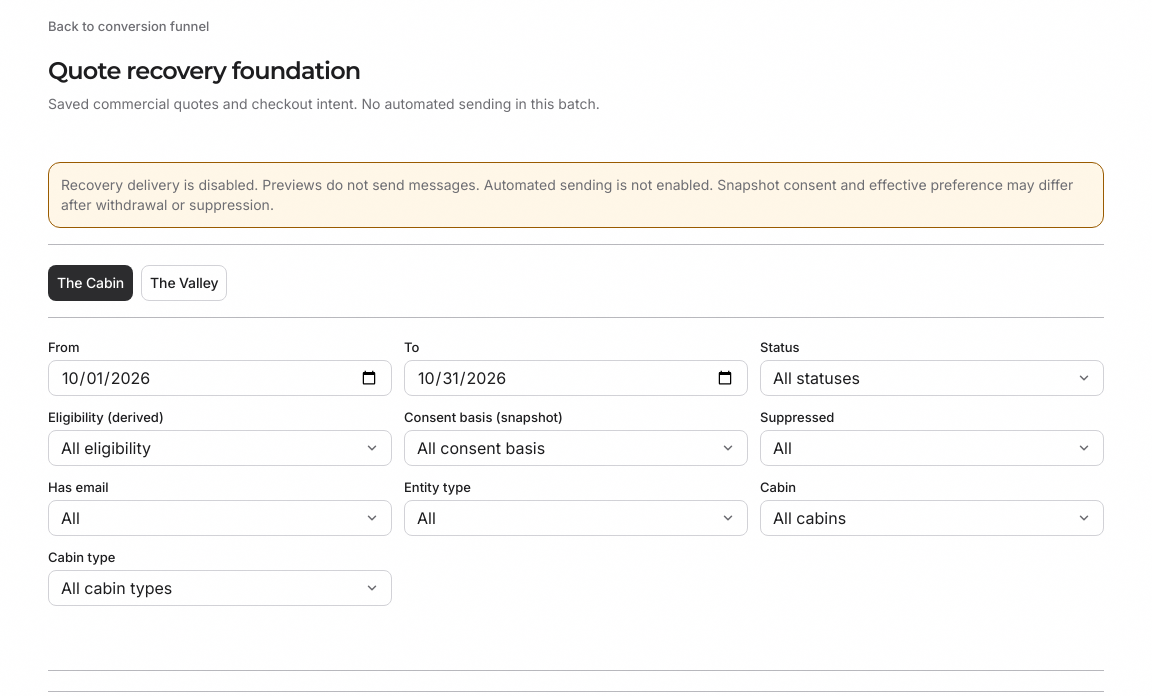
Test: OpsConversionRecovery migration › humanizes eligibility reason display without changing API/filter values
Step 1. Select "Booking reminder" in the dropdown labelled "Eligibility (derived)" → {"x": 220, "y": 448}, box [48, 430, 392, 466]
(page scrolled)
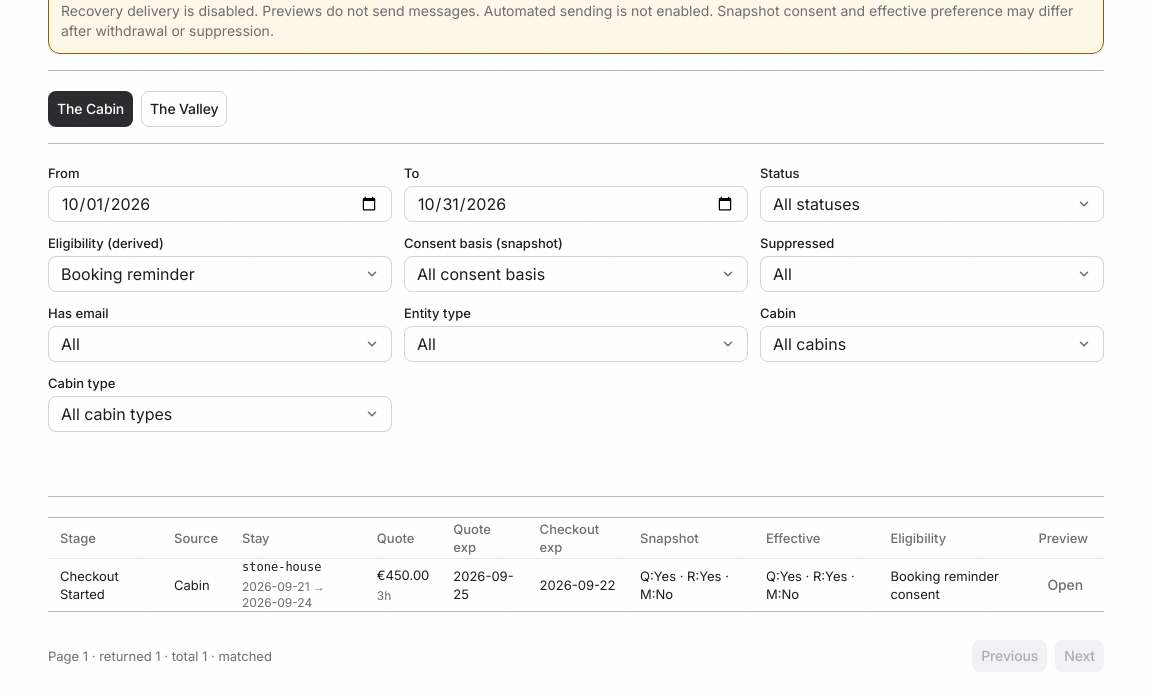
Step 2. Click the button "Open" → {"x": 1065, "y": 584}, box [1038, 568, 1092, 600]
(page scrolled)
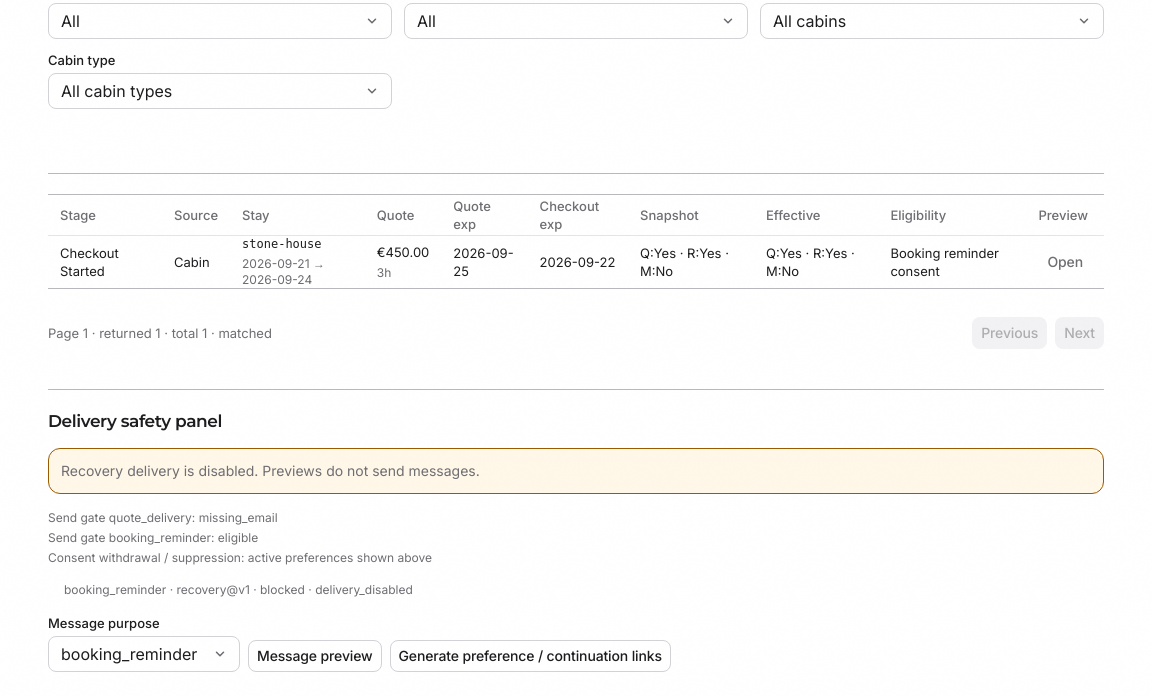
Check: the element with test id "recovery-detail" is shown, box [48, 388, 1104, 695]
Step 3. Click the button "Message preview" → {"x": 315, "y": 656}, box [248, 640, 382, 672]
(page scrolled)
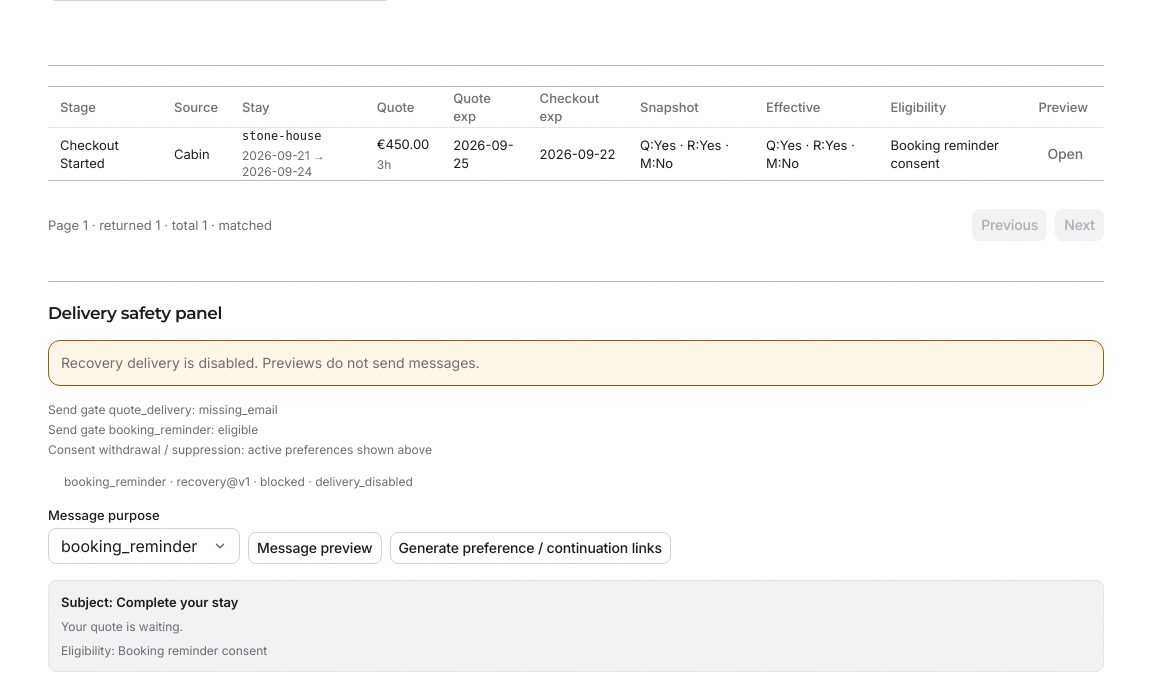
Check: the text "Eligibility: Booking reminder consent" is shown, box [61, 642, 267, 658]
